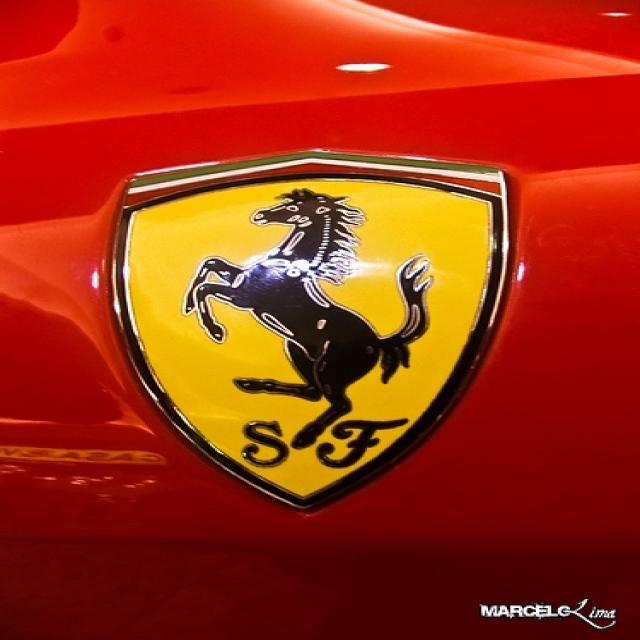ferrari: (112, 147, 515, 514)
